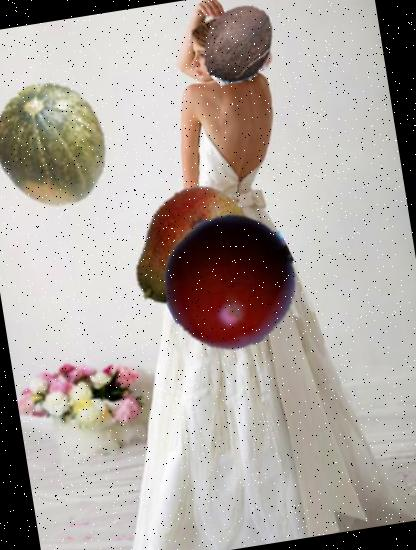Cocos: (191, 0, 287, 93)
Melon: (0, 72, 118, 216)
Pear: (114, 172, 271, 329)
Tamarillo: (154, 206, 307, 359)
